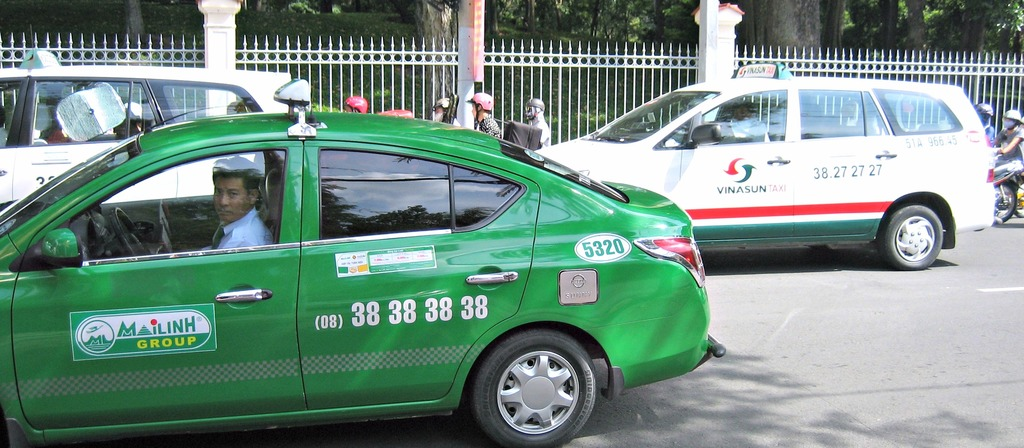Car: (0, 88, 711, 441), (539, 61, 996, 271), (0, 66, 314, 209)
